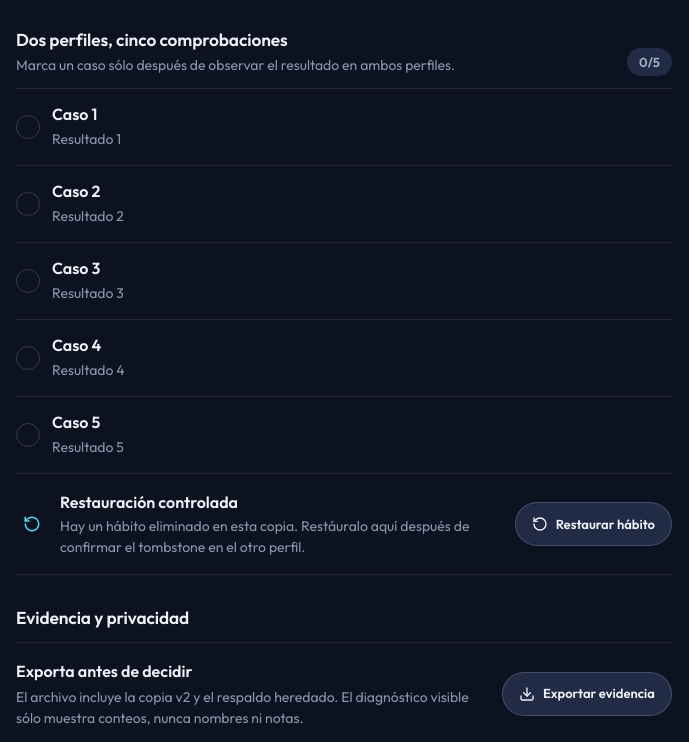
Test: SyncV2PilotPage › removes the stale restore action after a version conflict
(page scrolled)
Step 1. Click the button with class "sv-restore__button" → (593, 524), box [515,502,672,546]
(page scrolled)
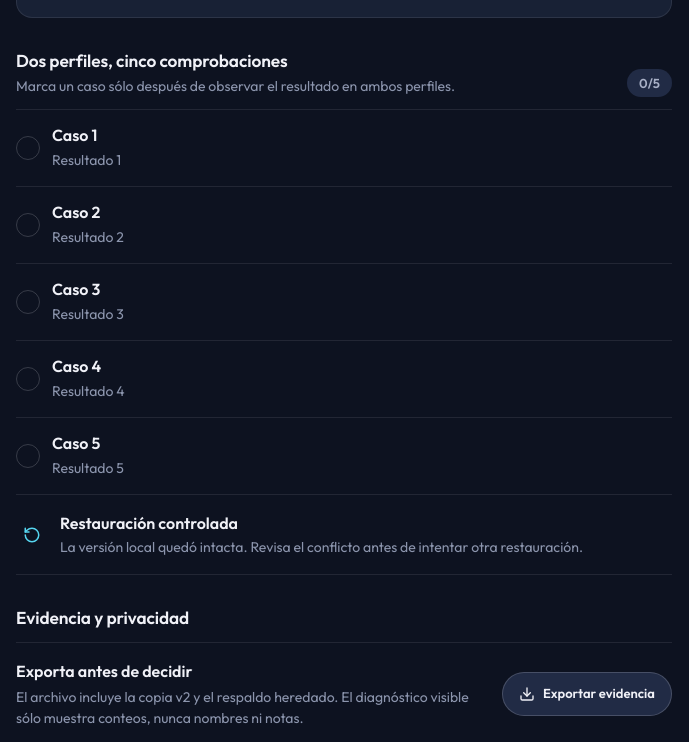
Expected: the text "La versión local quedó intacta" is shown, [60,538,583,556]
